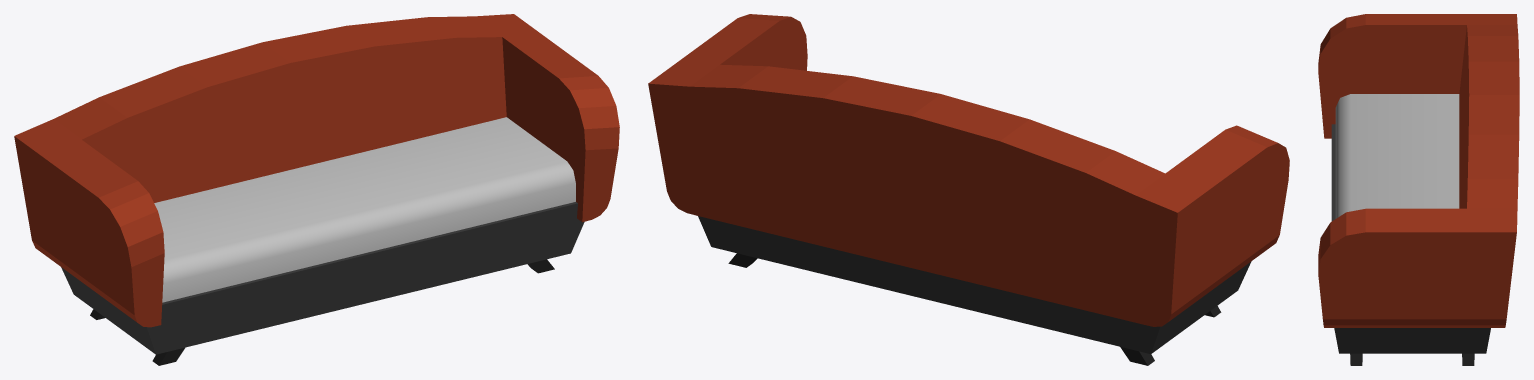
Rendered from sofa-2.glb.
The picture shows the model from 3 angles, left to right: view 1: azimuth 30°, elevation 25°; view 2: azimuth 150°, elevation 25°; view 3: azimuth 270°, elevation 25°; orthographic projection. The views are drawn at different scales.
Parts seen in each view (by area): view 1: Sofa_2; view 2: Sofa_2; view 3: Sofa_2.
Part boxes in pixels (bbox=[...]): Sofa_2: bbox=[14, 14, 619, 365]; Sofa_2: bbox=[648, 14, 1289, 365]; Sofa_2: bbox=[1318, 14, 1519, 365].
Size of the model in its own units: 240 by 94.43 by 93.39.
Materials: 1 (1 with a texture image).
